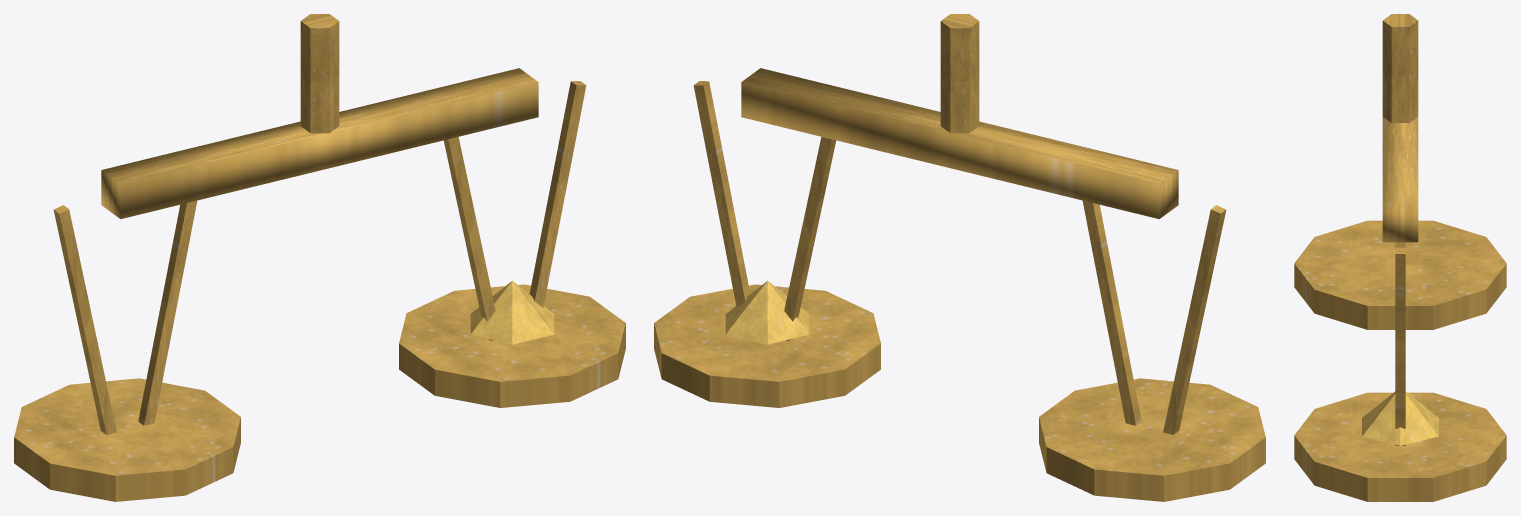
File: rival_mira_scales.obj
The picture shows the model from 3 angles, left to right: view 1: azimuth 30°, elevation 25°; view 2: azimuth 150°, elevation 25°; view 3: azimuth 270°, elevation 25°; orthographic projection. The views are drawn at different scales.
Parts seen in each view (by area): view 1: rival_mira_scales; view 2: rival_mira_scales; view 3: rival_mira_scales.
Boxes of the visible parts, left/top/right/bottom form: rival_mira_scales: left=14, top=14, right=625, bottom=501; rival_mira_scales: left=654, top=14, right=1265, bottom=501; rival_mira_scales: left=1294, top=14, right=1506, bottom=501.
Bounding box in the file's own units: 0.4302 × 0.275 × 0.15.
